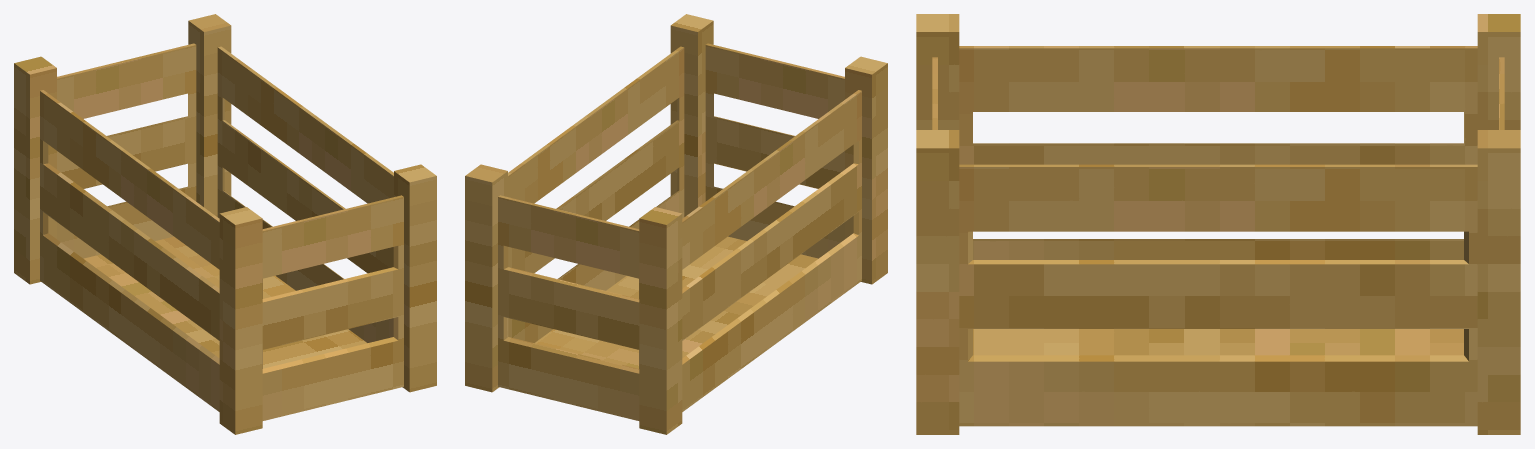
File: Crate.glb
The picture shows the model from 3 angles, left to right: view 1: azimuth 30°, elevation 25°; view 2: azimuth 150°, elevation 25°; view 3: azimuth 270°, elevation 25°; orthographic projection. The views are drawn at different scales.
Visible parts, largest first — view 1: Cube_001; view 2: Cube_001; view 3: Cube_001.
Boxes of the visible parts, x1,y1,x2,y2 form: Cube_001: [14, 14, 436, 434]; Cube_001: [465, 14, 887, 434]; Cube_001: [916, 14, 1520, 434].
Size of the model in its own units: 1.11 by 1.1 by 2.11.
1 material, 1 textured.
